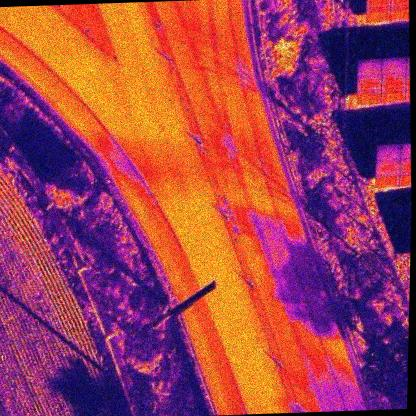Normal: (379, 86, 408, 104), (356, 89, 383, 106), (382, 72, 409, 89), (366, 6, 392, 23), (356, 74, 382, 90), (357, 58, 383, 74), (377, 144, 402, 159), (382, 58, 407, 73), (375, 172, 399, 187), (376, 158, 400, 173), (367, 0, 391, 7)
